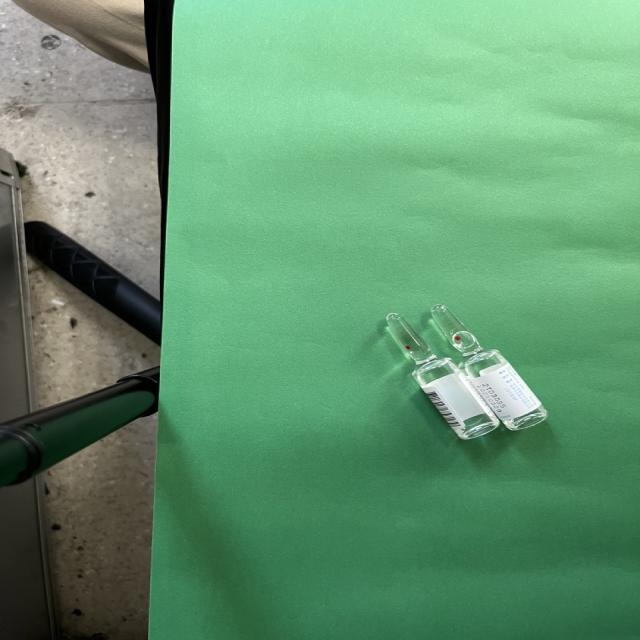Ampoules: (431, 304, 547, 430), (386, 313, 499, 440)
